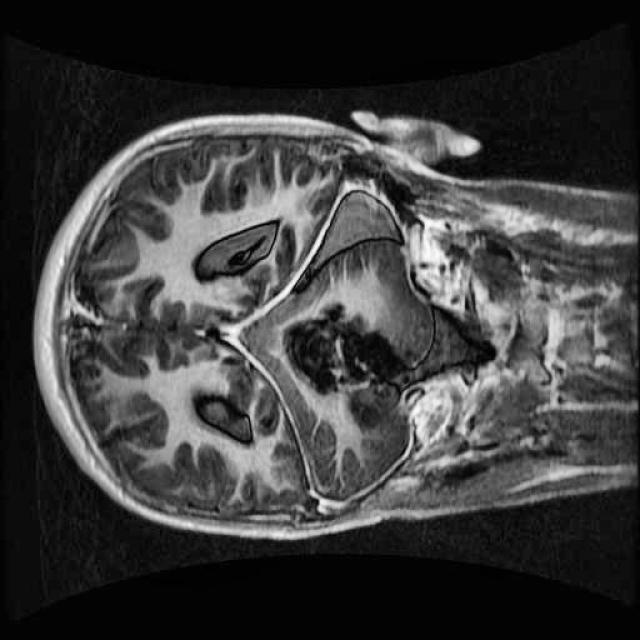Non-Tumor: (271, 262, 422, 461)
